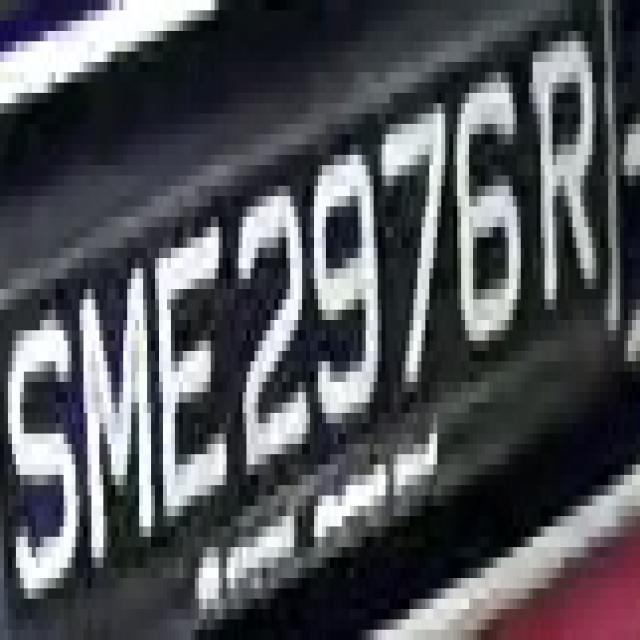2: (231, 175, 314, 496)
6: (441, 62, 525, 361)
7: (366, 82, 449, 402)
9: (290, 124, 386, 454)
E: (155, 217, 231, 537)
M: (72, 248, 163, 578)
R: (521, 41, 616, 341)
S: (4, 278, 83, 630)
